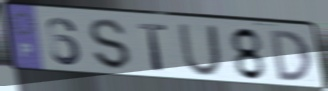6: (45, 16, 83, 68)
8: (228, 24, 267, 83)
D: (268, 28, 315, 83)
S: (87, 17, 133, 72)
T: (136, 21, 170, 74)
U: (177, 23, 224, 79)
